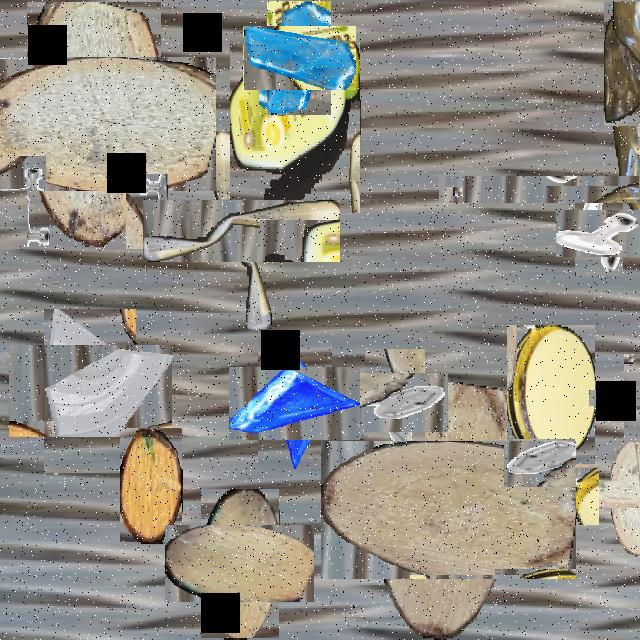glass: (26, 327, 154, 455), (244, 352, 346, 455), (254, 14, 344, 103)
metal: (501, 451, 587, 537), (354, 360, 436, 444), (566, 200, 632, 266), (126, 174, 168, 249), (606, 371, 640, 424)
plastic: (230, 32, 360, 213), (525, 89, 640, 291), (176, 166, 306, 296), (507, 325, 595, 464), (604, 2, 640, 126)
wood: (349, 412, 546, 608), (0, 29, 188, 219), (183, 507, 297, 620), (120, 428, 182, 542), (587, 455, 640, 532)
